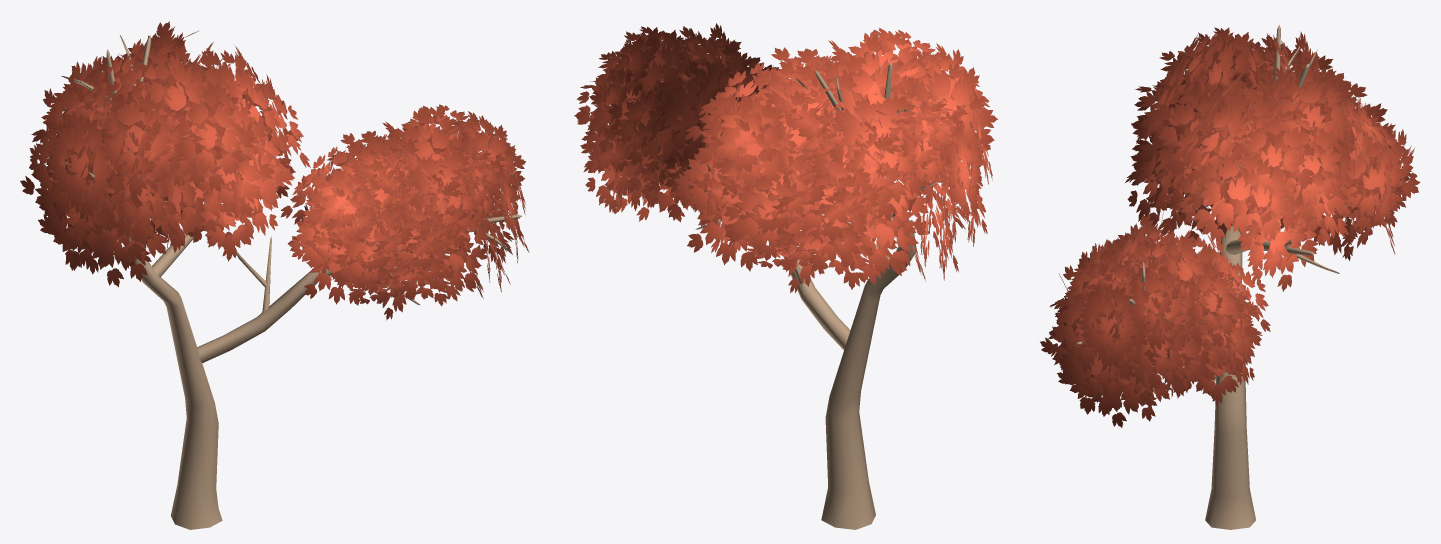
File: tree_maple_01.glb
3 views of the same model, side by side, from view 1: azimuth 30°, elevation 25°; view 2: azimuth 150°, elevation 25°; view 3: azimuth 270°, elevation 25° (orthographic). The views are drawn at different scales.
Parts seen in each view (by area): view 1: MapleTree_1; view 2: MapleTree_1; view 3: MapleTree_1.
Boxes of the visible parts, box(x1,y1,x2,y2) form: MapleTree_1: box(20, 21, 529, 529); MapleTree_1: box(574, 23, 997, 529); MapleTree_1: box(1040, 25, 1420, 529).
Size of the model in its own units: 6.23 by 6.64 by 4.9.
Materials: 2 (1 with a texture image).
